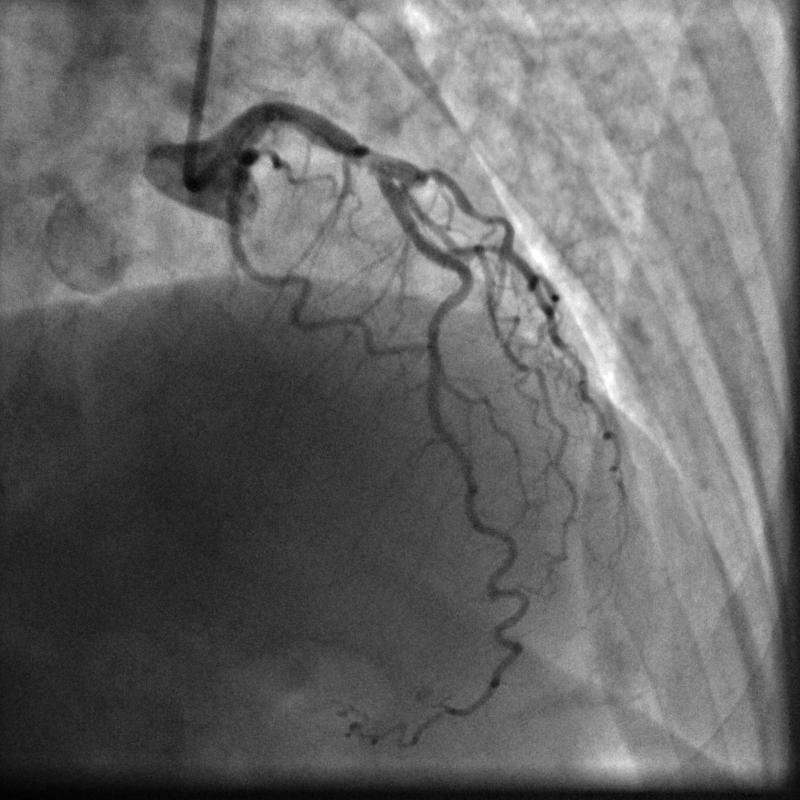Stenosis: (363, 147, 383, 178)
